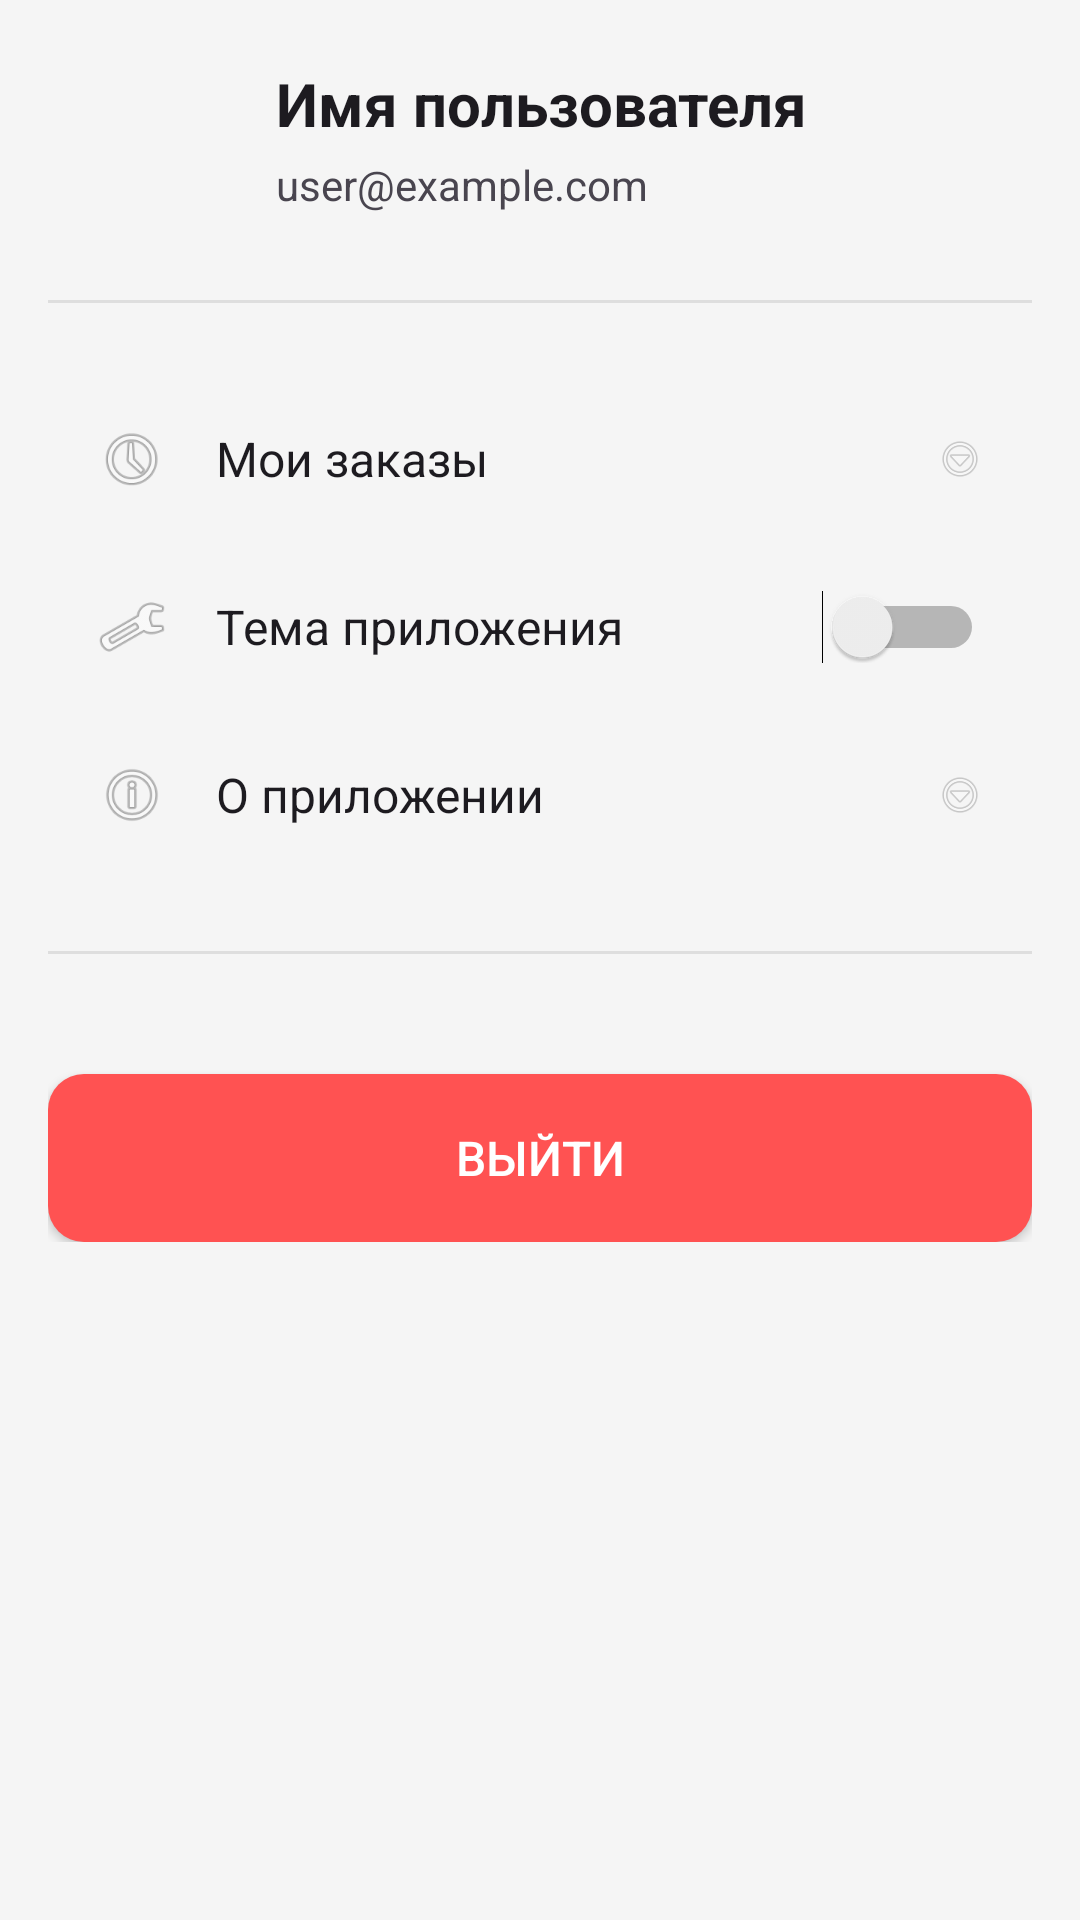

Icon bounding boxes for this 1080w x 1920h phone screenshot, format (x1, y1, x2, y2):
info details: (106, 769, 158, 821)
more: (942, 441, 978, 477), (942, 777, 978, 813)
preferences: (100, 602, 164, 652)
recent history: (106, 433, 158, 485)
